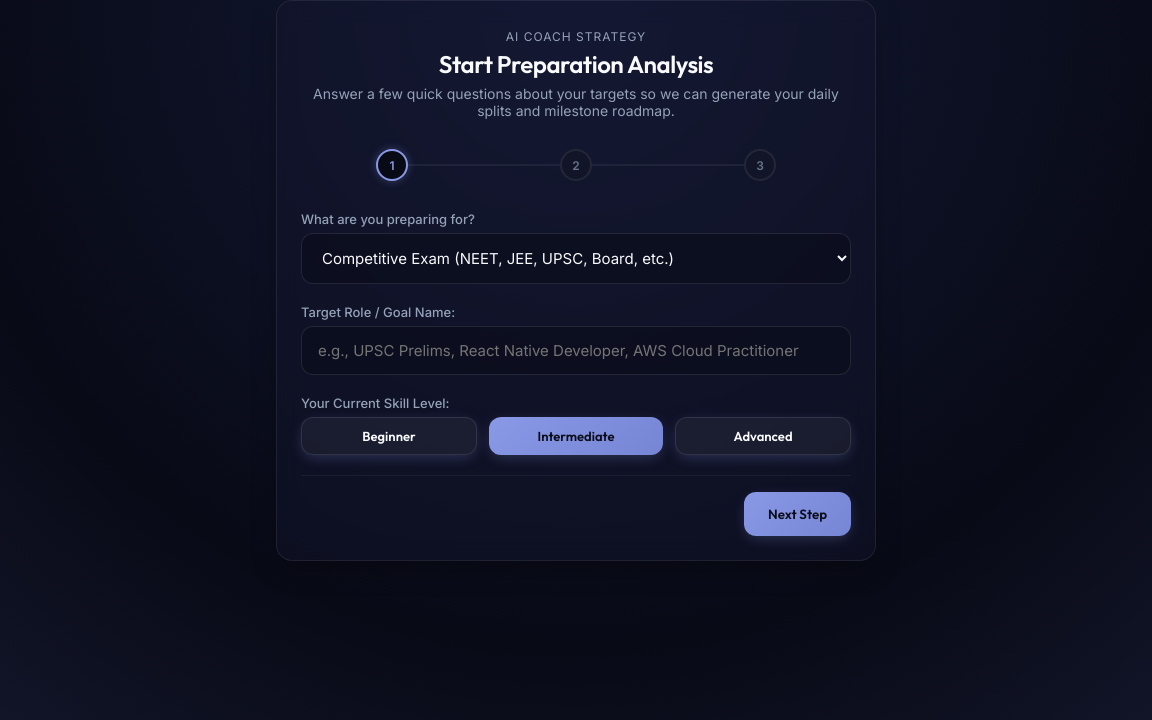
Test: AICoach › should show error state on API failure
Replace the text in the field with placeholder "e.g., UPSC Prelims" with "NEET" at [576, 350], box [301, 326, 851, 375]
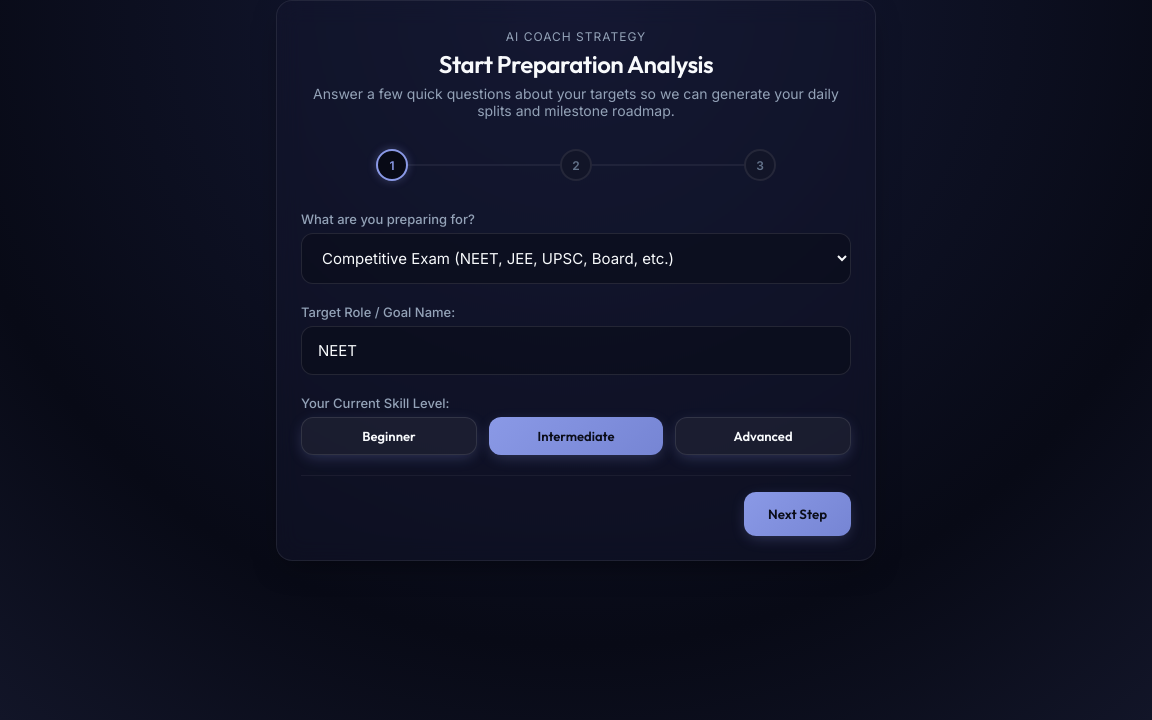
Click the button "Next Step" at [798, 514], box [744, 492, 851, 536]
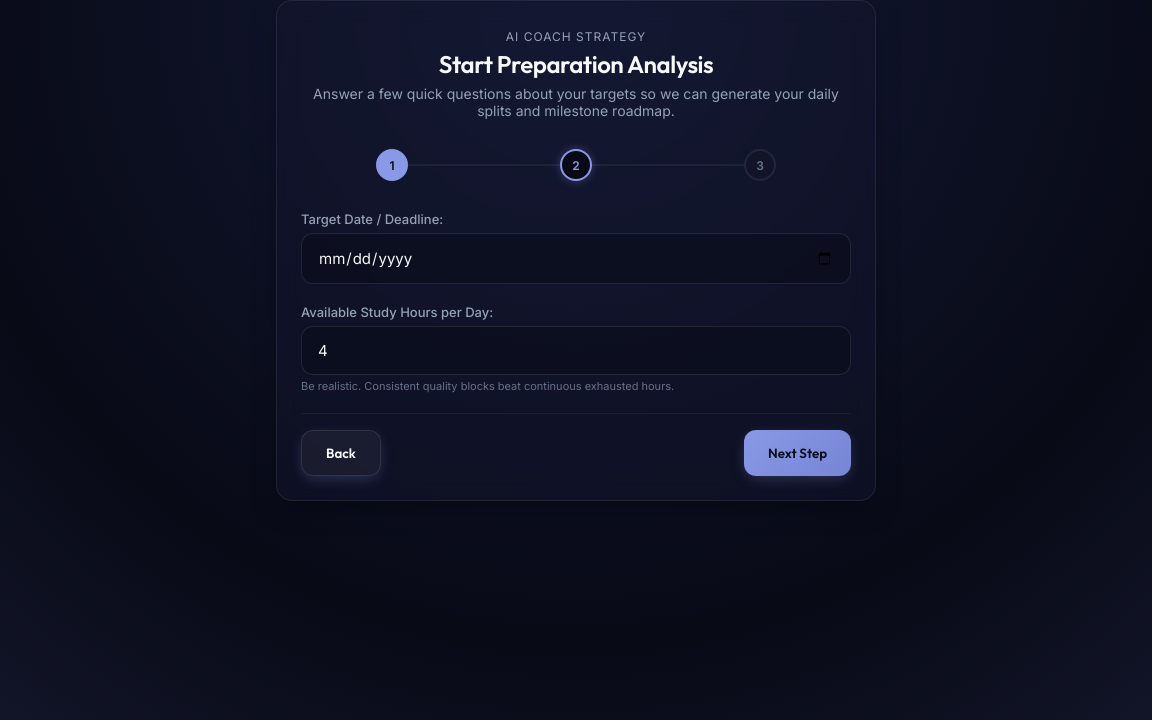
Click the button "Next Step" at [798, 453], box [744, 430, 851, 476]
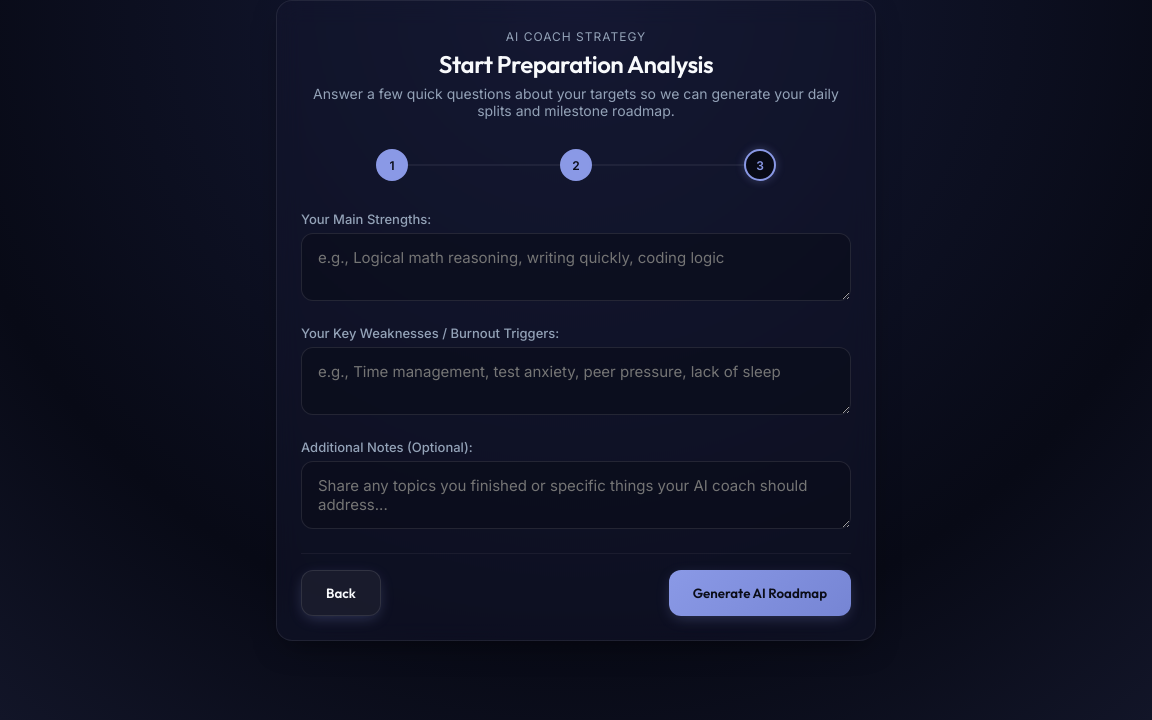
Click the button "Generate AI Roadmap" at [760, 593], box [669, 570, 851, 616]
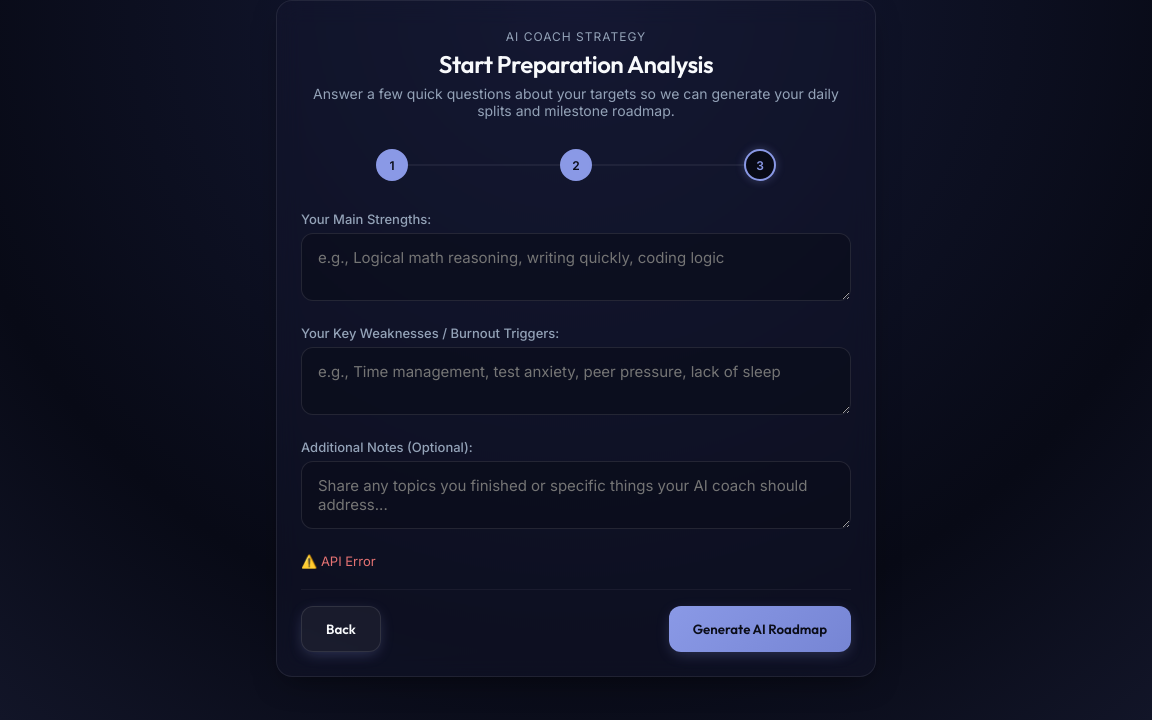
Expected: the text "⚠️ API Error" is shown, [301, 553, 376, 569]
